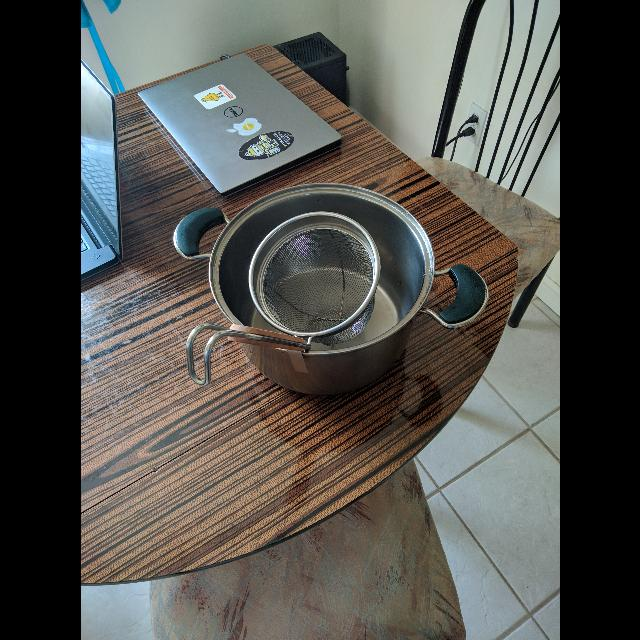Handle: (181, 317, 301, 399)
Strainer: (243, 201, 381, 340)
